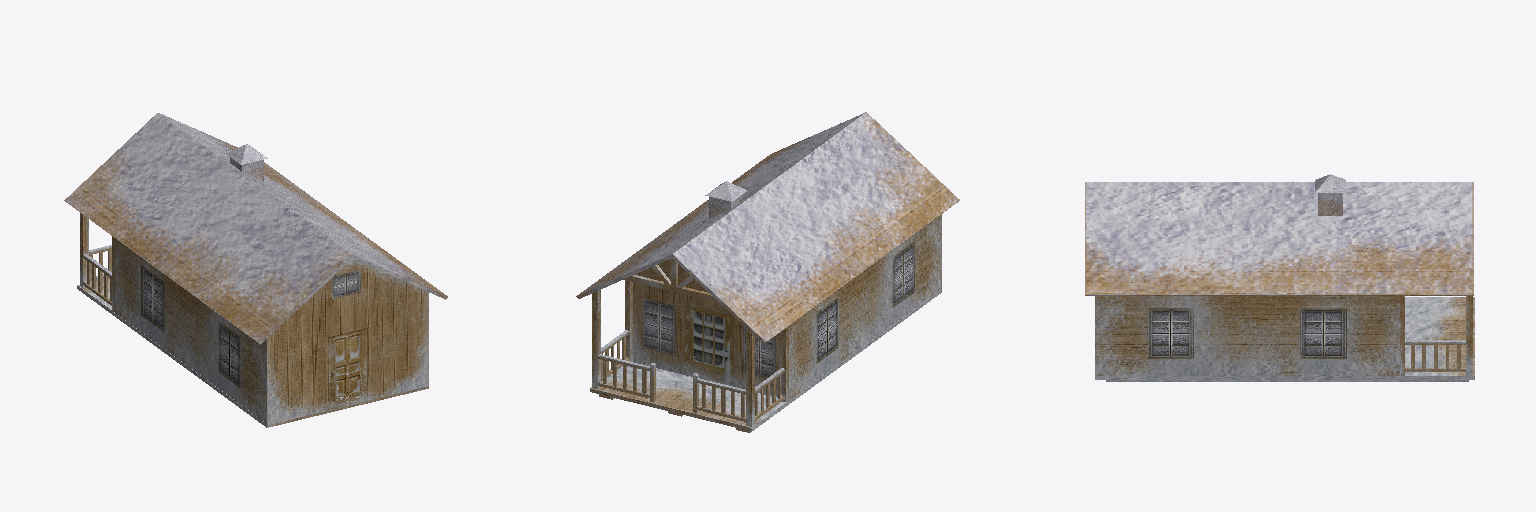
3 renders of one model, left to right at view 1: azimuth 30°, elevation 25°; view 2: azimuth 150°, elevation 25°; view 3: azimuth 270°, elevation 25°, orthographic.
Visible parts, largest first — view 1: Object_Cottage_Texture.jpg; view 2: Object_Cottage_Texture.jpg; view 3: Object_Cottage_Texture.jpg.
Part boxes in pixels (left/top/right/bottom): Object_Cottage_Texture.jpg: left=64, top=113, right=447, bottom=427; Object_Cottage_Texture.jpg: left=576, top=112, right=959, bottom=432; Object_Cottage_Texture.jpg: left=1085, top=174, right=1474, bottom=381.
Size of the model in its own units: 1.41 by 1.27 by 2.5.
Materials: 2 (1 with a texture image).